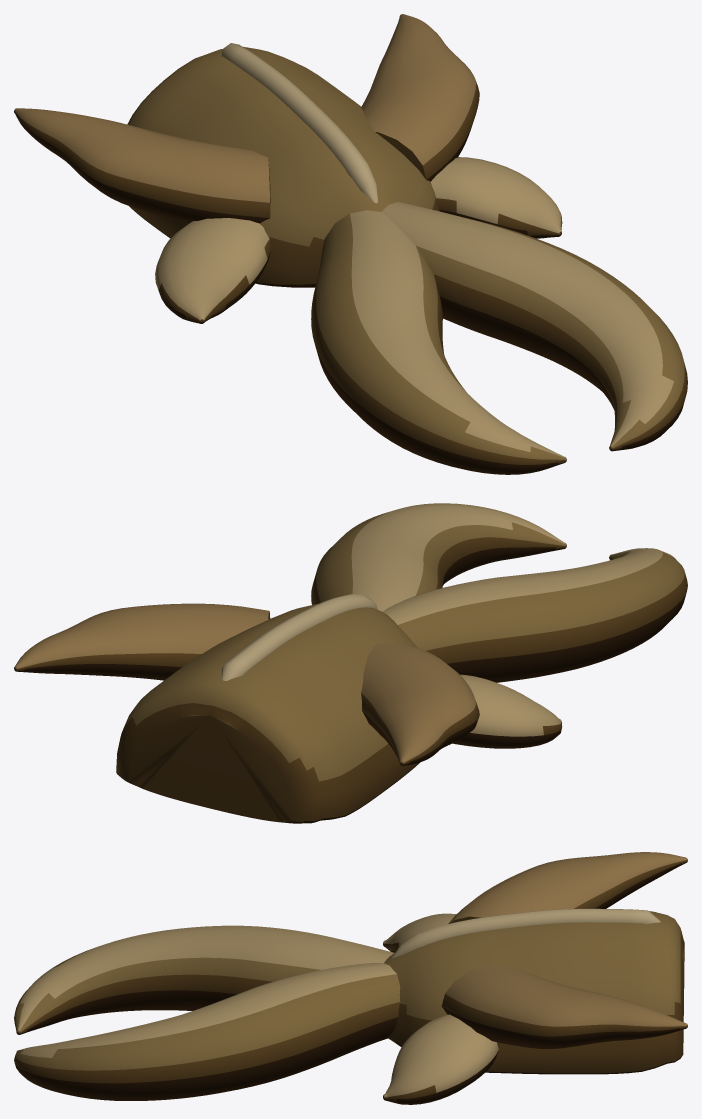
File: tusk_beetle_53.glb
3 renders of one model, top to bottom at view 1: azimuth 30°, elevation 25°; view 2: azimuth 150°, elevation 25°; view 3: azimuth 270°, elevation 25°, orthographic. The views are drawn at different scales.
Parts seen in each view (by area): view 1: tusk_r, tusk_l, carapace, horn_l, horn_r, plate_l, plate_r, keel; view 2: carapace, tusk_l, tusk_r, horn_r, horn_l, plate_l, keel; view 3: tusk_r, carapace, tusk_l, horn_r, horn_l, plate_r, keel, plate_l.
Boxes of the visible parts, bbox=[...] form: tusk_r: bbox=[381, 201, 687, 451]; tusk_l: bbox=[311, 210, 566, 474]; carapace: bbox=[127, 47, 439, 287]; horn_l: bbox=[14, 108, 270, 223]; horn_r: bbox=[361, 14, 479, 181]; plate_l: bbox=[155, 218, 271, 323]; plate_r: bbox=[431, 157, 562, 238]; keel: bbox=[221, 43, 377, 203]; carapace: bbox=[116, 604, 420, 823]; tusk_l: bbox=[383, 548, 687, 682]; tusk_r: bbox=[311, 503, 566, 611]; horn_r: bbox=[14, 603, 270, 680]; horn_l: bbox=[361, 642, 479, 765]; plate_l: bbox=[453, 674, 562, 748]; keel: bbox=[221, 594, 377, 680]; tusk_r: bbox=[14, 963, 400, 1100]; carapace: bbox=[384, 911, 684, 1074]; tusk_l: bbox=[14, 925, 394, 1034]; horn_r: bbox=[441, 965, 687, 1049]; horn_l: bbox=[448, 852, 687, 923]; plate_r: bbox=[383, 1014, 499, 1104]; keel: bbox=[391, 908, 660, 958]; plate_l: bbox=[383, 913, 455, 952].
Bounding box in the file's own units: 16.81 × 6.5 × 27.66.
